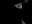person: (16, 4, 24, 11), (19, 18, 27, 23), (24, 1, 28, 5)
